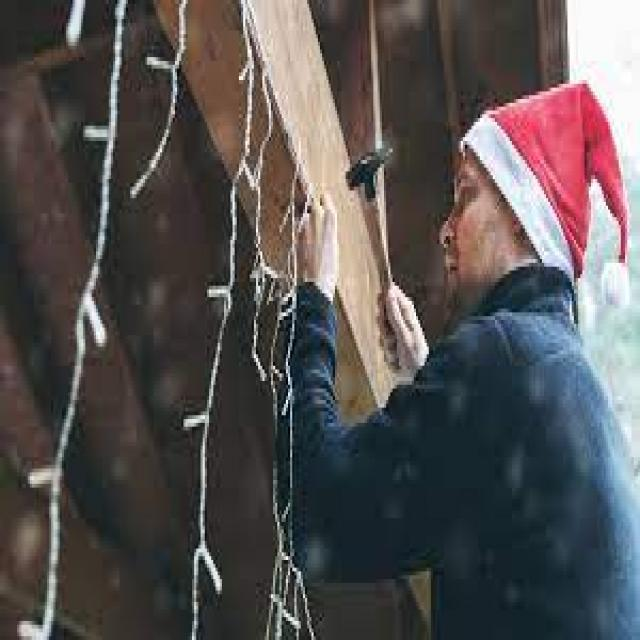hammer: (344, 130, 410, 332)
